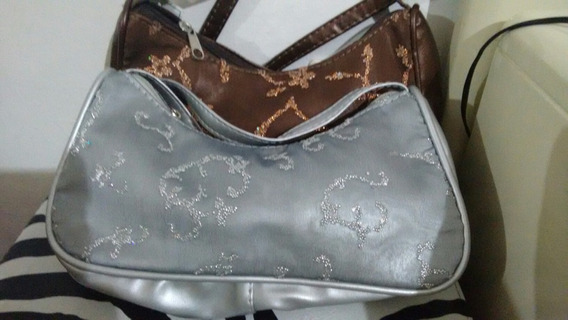cartera: (46, 67, 473, 320)
